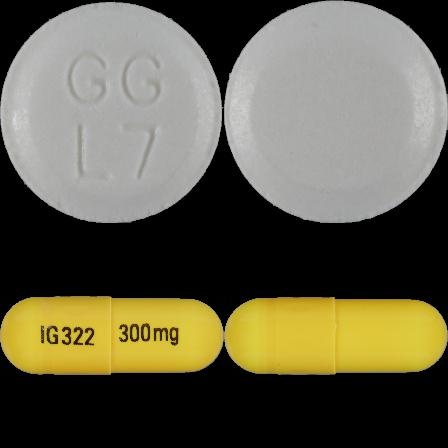68788-7368: (0, 0, 224, 224)
